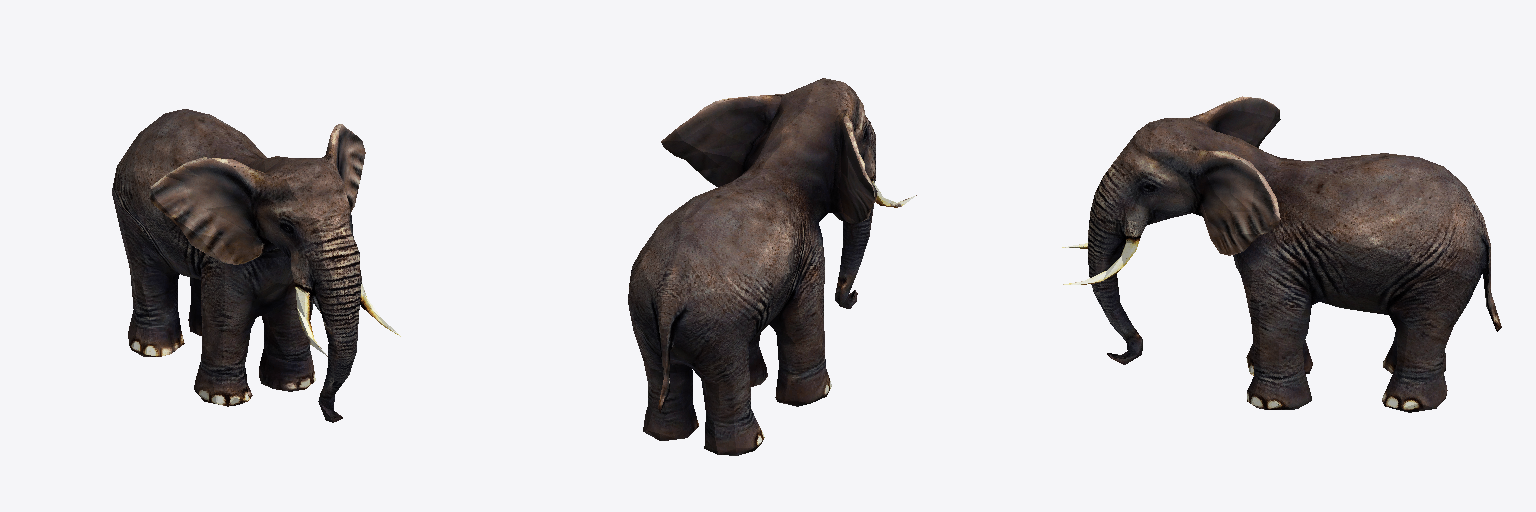
The picture shows the model from 3 angles: view 1: azimuth 30°, elevation 25°; view 2: azimuth 150°, elevation 25°; view 3: azimuth 270°, elevation 25°; orthographic projection.
Parts seen in each view (by area): view 1: Elephant_Low_Poly; view 2: Elephant_Low_Poly; view 3: Elephant_Low_Poly.
Part boxes in pixels (bbox=[...]): Elephant_Low_Poly: bbox=[112, 109, 400, 422]; Elephant_Low_Poly: bbox=[628, 78, 916, 455]; Elephant_Low_Poly: bbox=[1062, 96, 1501, 412].
Bounding box in the file's own units: 2.29 × 2.74 × 4.12.
1 materials, 1 textured.